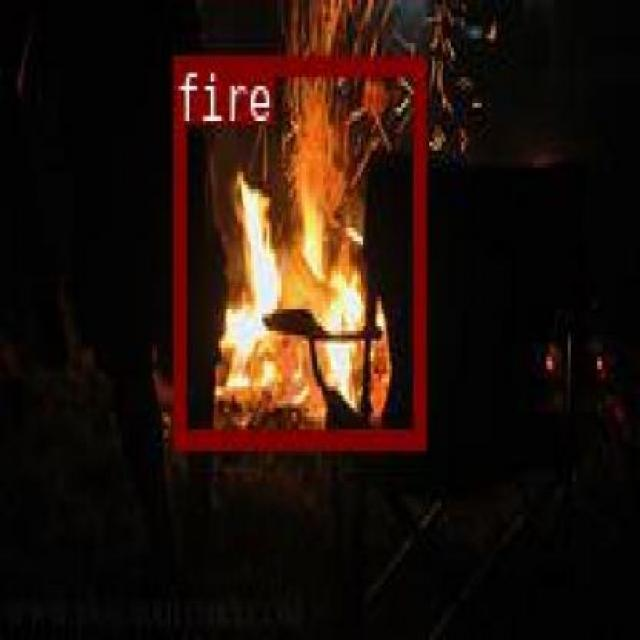Fire: (251, 248, 296, 394)
